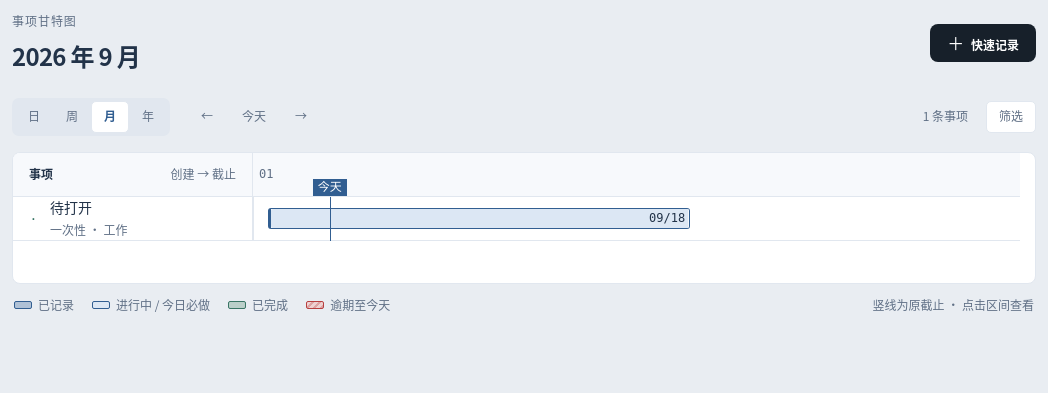
Test case: TimelineView › 详情和快速记录打开失败均提供恢复入口，不展示底层错误
Click the button with aria-label "打开事项：待打开" at (133, 219), box [13,197,253,241]
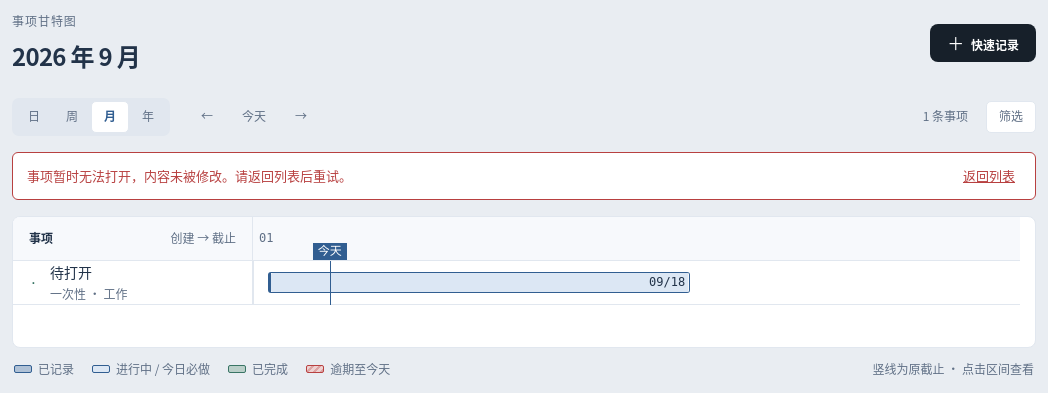
Check: the text "事项暂时无法打开，内容未被修改。请返回列表后重试。" is shown, box [27,166,352,185]
Click the button "＋ 快速记录" at (983, 43), box [930,24,1036,62]
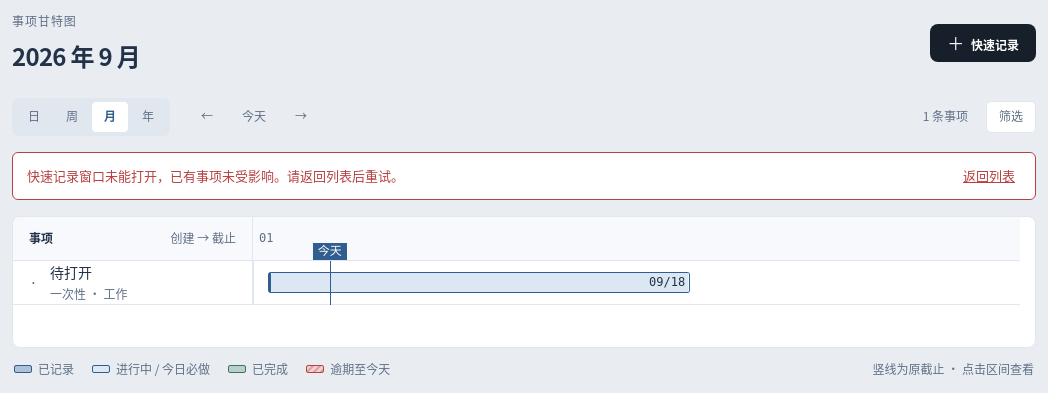
Check: the text "快速记录窗口未能打开，已有事项未受影响。请返回列表后重试。" is shown, box [27,166,404,185]
